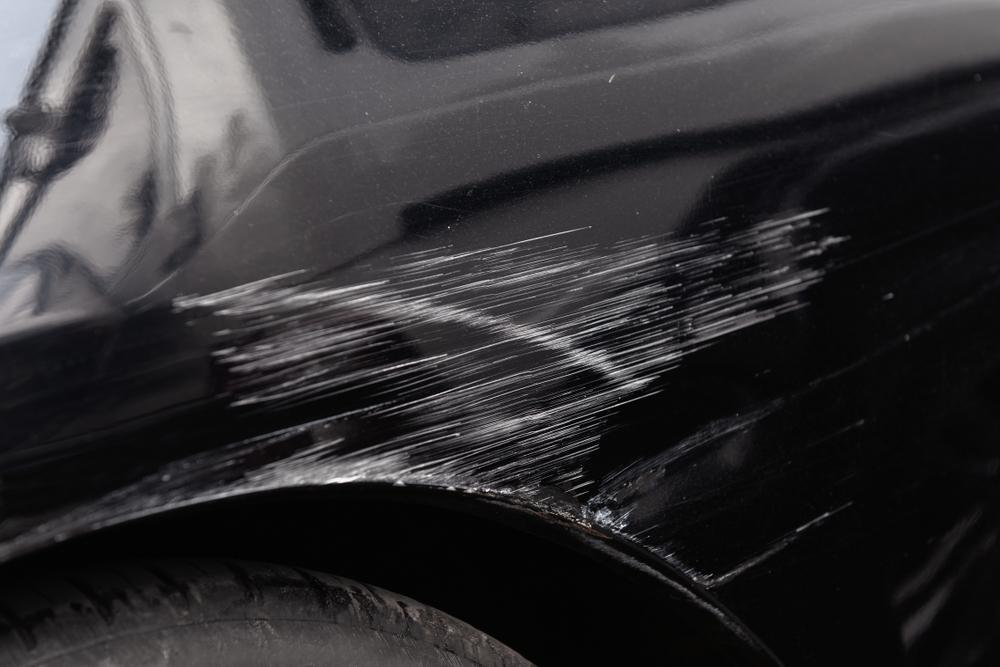scratch: (0, 203, 886, 589)
